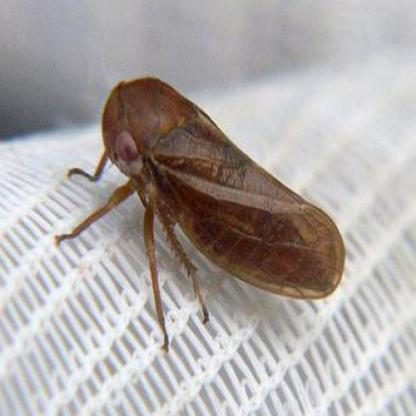brown-planthopper: (88, 65, 344, 302)
